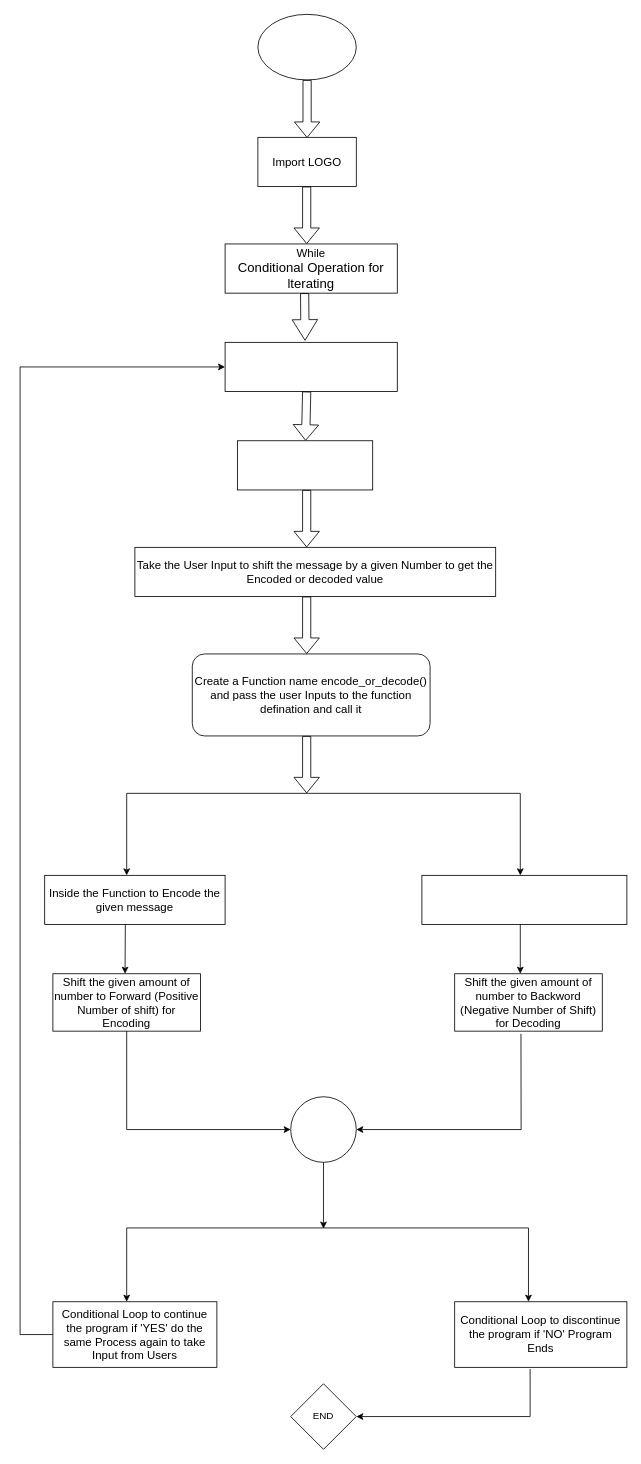
Some shapes in this 641 by 1464 pixel diagram are drawn without their labels. The centre of each missing label's shape, as x and y in pixels:
"Inside the Function to Decode the given message" belongs at point (524, 900).
"Output Result" belongs at point (323, 1129).
"START" belongs at point (306, 47).
"Take User Input To select Encode or Decode By the User" belongs at point (310, 367).
"Take User Input to text message" belongs at point (305, 465).
